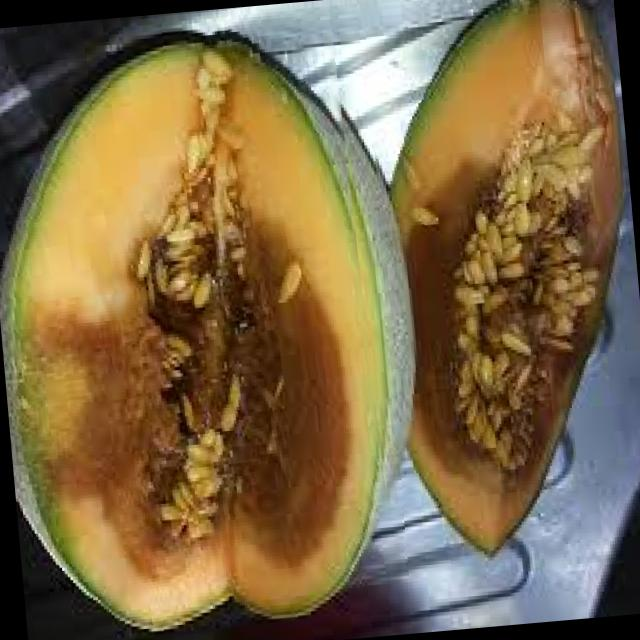Organic: (0, 0, 399, 640), (357, 0, 640, 577)
